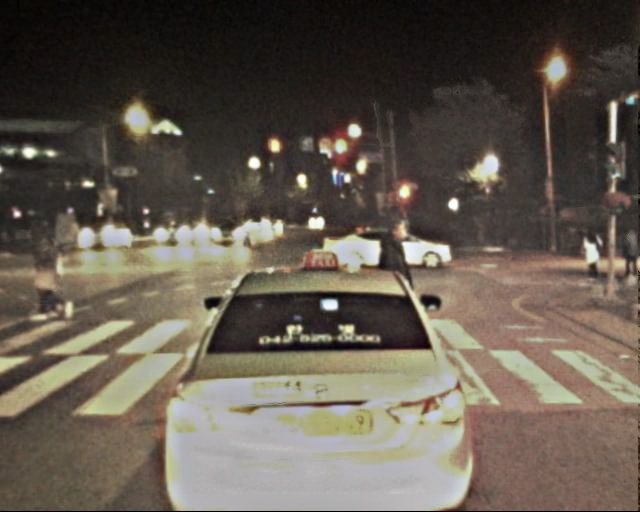person: (373, 219, 426, 349), (28, 216, 76, 318), (580, 230, 603, 285), (619, 229, 640, 284)
